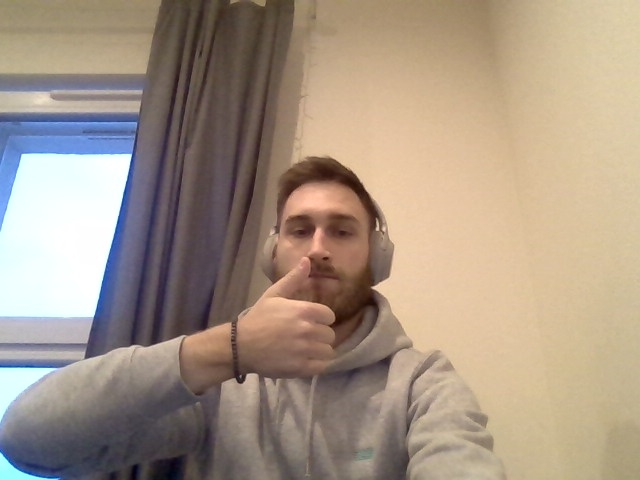ThumbsUp: (237, 256, 336, 379)
